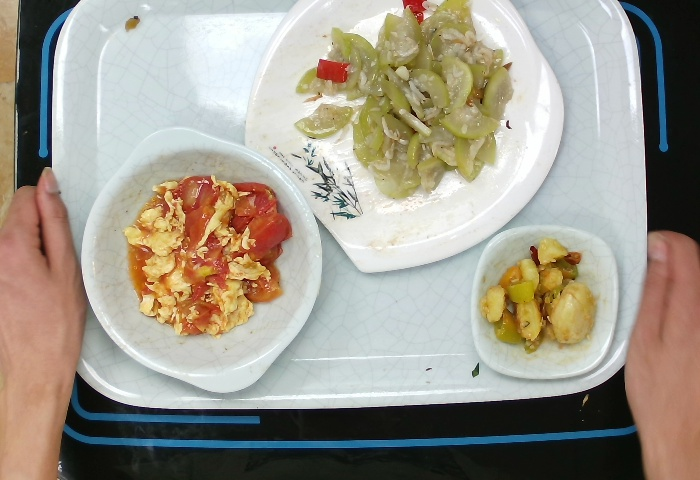JYsf-Mian_Pan: (240, 1, 567, 277)
JYsf-Shuang_Er_Wan: (76, 124, 327, 396)
JYsf-Si_Fang_Die: (466, 222, 624, 384)
